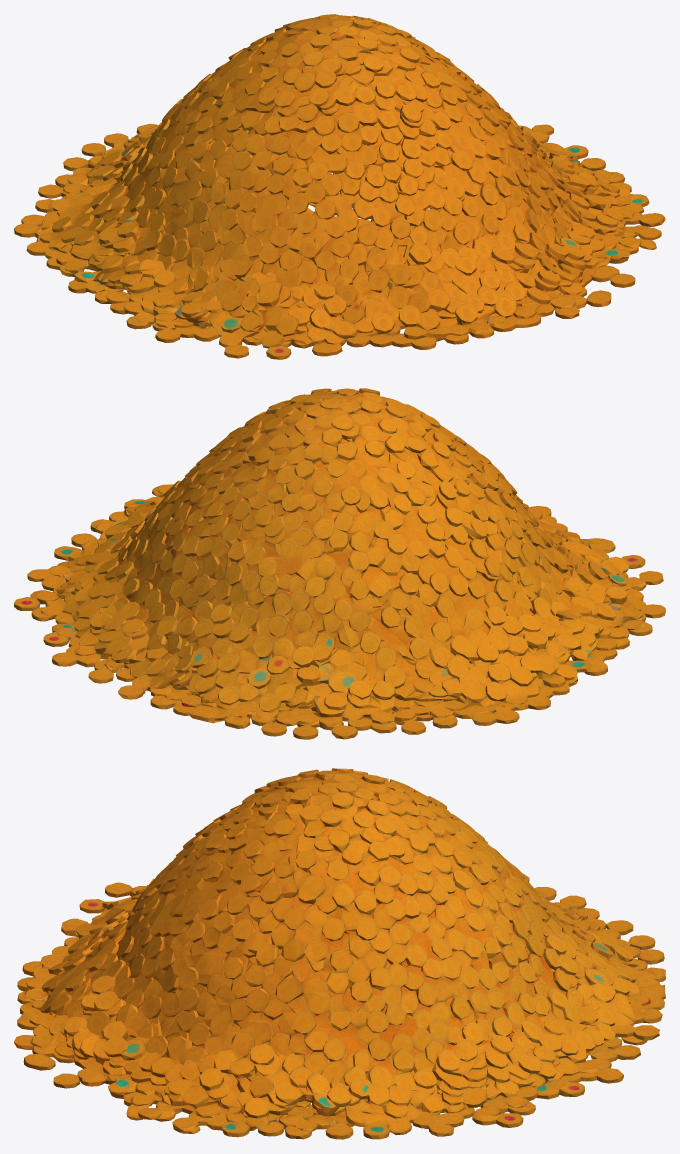
The model's file is treasure-mound-hero.glb.
3 renders of one model, top to bottom at view 1: azimuth 30°, elevation 25°; view 2: azimuth 150°, elevation 25°; view 3: azimuth 270°, elevation 25°, orthographic. The views are drawn at different scales.
Size of the model in its own units: 1.9 by 0.7022 by 1.87.
Materials: 1 (1 with a texture image).
